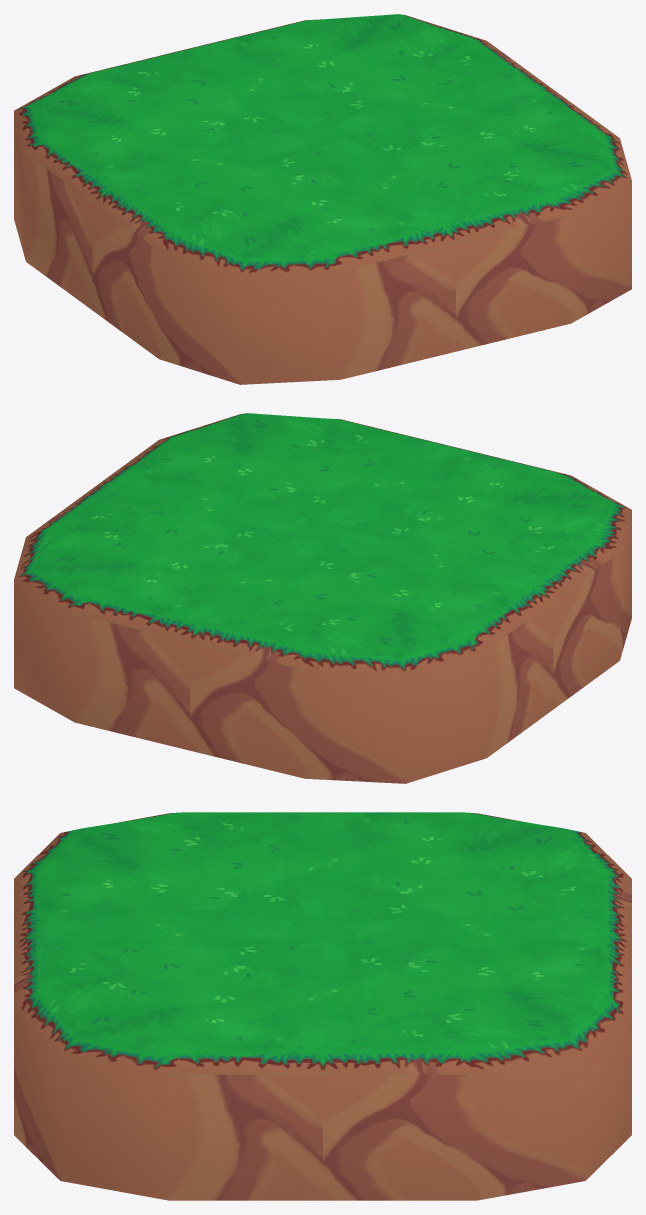
The model's file is grass_platform.gltf.
3 renders of one model, top to bottom at view 1: azimuth 30°, elevation 25°; view 2: azimuth 150°, elevation 25°; view 3: azimuth 270°, elevation 25°, orthographic. The views are drawn at different scales.
Visible parts, largest first — view 1: GrassPlatform; view 2: GrassPlatform; view 3: GrassPlatform.
Part boxes in pixels (left/top/right/bottom): GrassPlatform: left=14, top=14, right=631, bottom=384; GrassPlatform: left=14, top=413, right=631, bottom=783; GrassPlatform: left=14, top=812, right=631, bottom=1200.
Size of the model in its own units: 2 by 0.5 by 2.
1 material, 1 textured.
